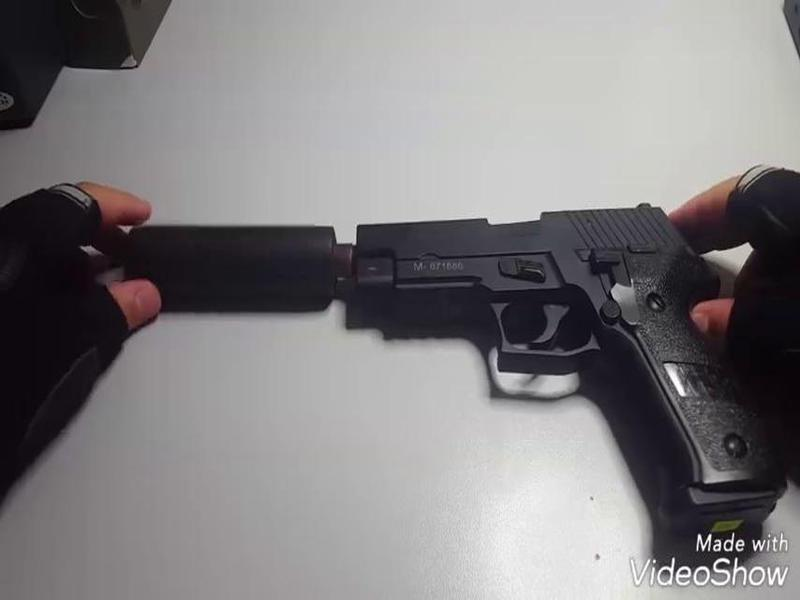Pistola: (341, 190, 796, 533)
